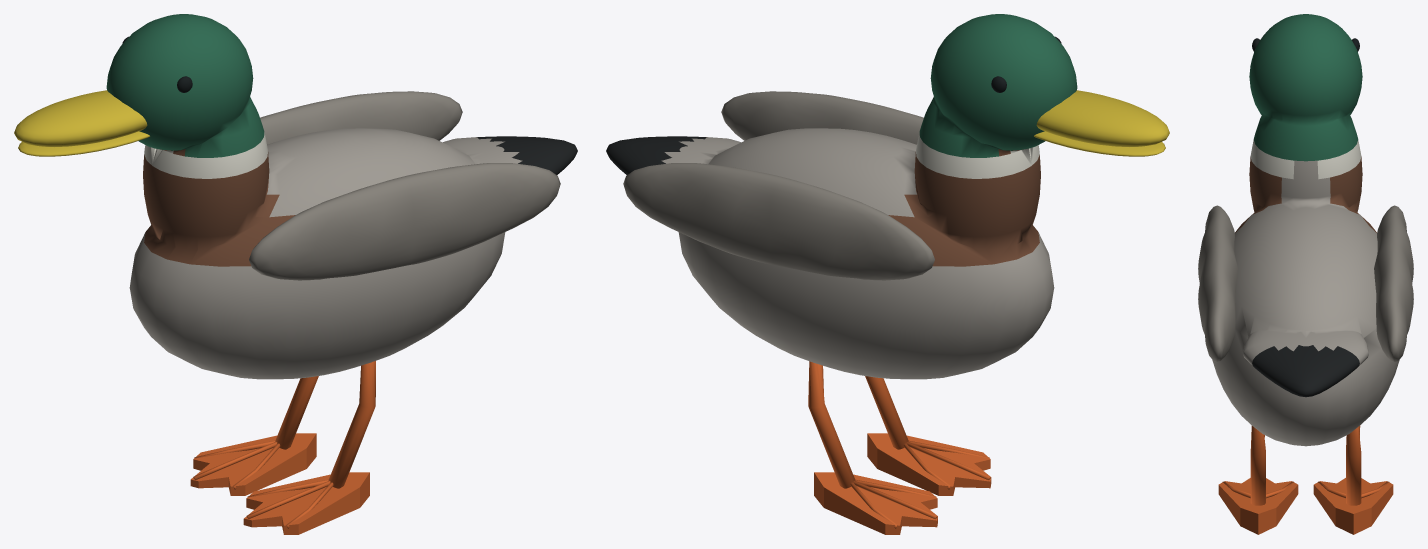
The picture shows the model from 3 angles, left to right: view 1: azimuth 30°, elevation 25°; view 2: azimuth 150°, elevation 25°; view 3: azimuth 270°, elevation 25°; orthographic projection. The views are drawn at different scales.
Parts seen in each view (by area): view 1: Continuous body neck head, Fold-out wing -1, Fold-out wing 1, Upper broad flattened bill, Complete webbed foot 1, Complete webbed foot -1, Leg -1, Leg 1, Lower bill complete surface; view 2: Continuous body neck head, Fold-out wing 1, Fold-out wing -1, Upper broad flattened bill, Complete webbed foot -1, Complete webbed foot 1, Leg 1, Leg -1, Lower bill complete surface; view 3: Continuous body neck head, Fold-out wing -1, Fold-out wing 1, Complete webbed foot -1, Complete webbed foot 1, Leg -1, Leg 1.
Boxes of the visible parts, box(x1,y1,x2,y2) form: Continuous body neck head: box(106, 14, 577, 379); Fold-out wing -1: box(249, 163, 560, 280); Fold-out wing 1: box(260, 91, 462, 144); Upper broad flattened bill: box(14, 90, 147, 146); Complete webbed foot 1: box(190, 433, 316, 495); Complete webbed foot -1: box(243, 472, 369, 534); Leg -1: box(328, 361, 375, 488); Leg 1: box(275, 376, 318, 449); Lower bill complete surface: box(18, 131, 149, 156); Continuous body neck head: box(606, 14, 1077, 379); Fold-out wing 1: box(623, 163, 934, 280); Fold-out wing -1: box(721, 91, 923, 144); Upper broad flattened bill: box(1036, 90, 1169, 146); Complete webbed foot -1: box(867, 433, 991, 495); Complete webbed foot 1: box(814, 472, 937, 534); Leg 1: box(808, 361, 855, 488); Leg -1: box(865, 376, 908, 449); Lower bill complete surface: box(1034, 131, 1165, 156); Continuous body neck head: box(1212, 14, 1399, 446); Fold-out wing -1: box(1198, 205, 1237, 362); Fold-out wing 1: box(1374, 205, 1413, 362); Complete webbed foot -1: box(1218, 478, 1298, 534); Complete webbed foot 1: box(1313, 478, 1393, 534); Leg -1: box(1250, 425, 1265, 505); Leg 1: box(1346, 425, 1361, 505).
Bounding box in the file's own units: 0.449 × 0.38 × 0.1677.
